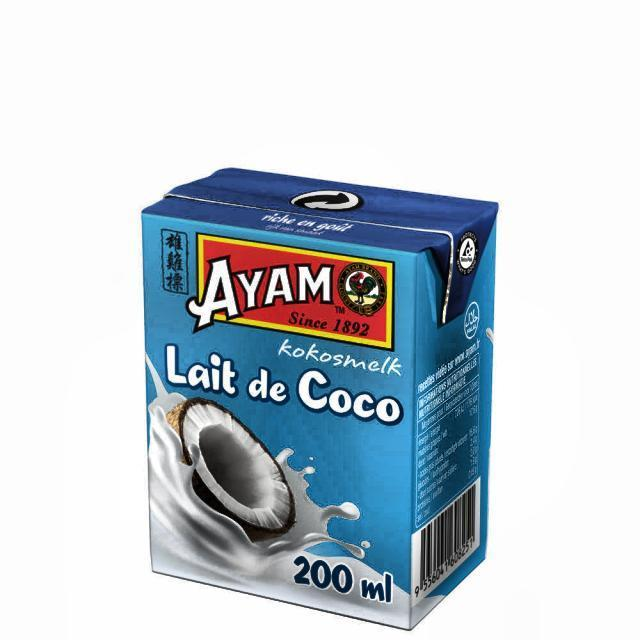cardboard: (141, 165, 498, 630)
